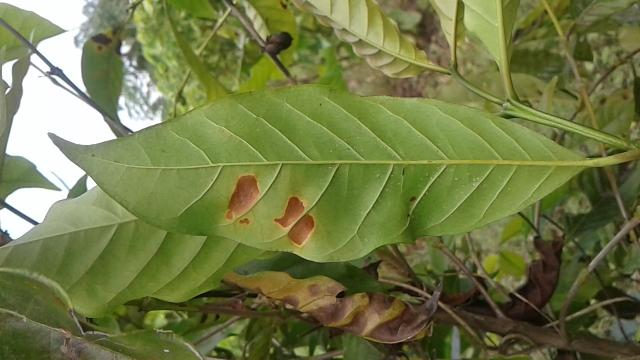red_spider_mite: (52, 86, 586, 260)
